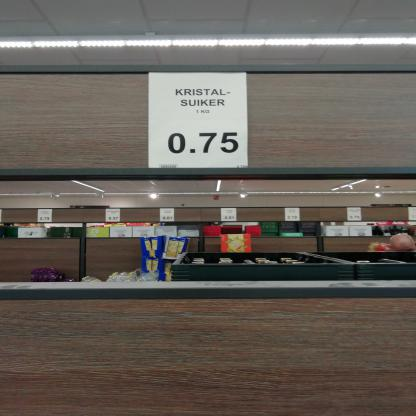prtg: (149, 72, 250, 170), (285, 208, 301, 222), (107, 209, 122, 223), (348, 208, 363, 222), (161, 209, 175, 223), (222, 209, 237, 222), (38, 210, 53, 223)
